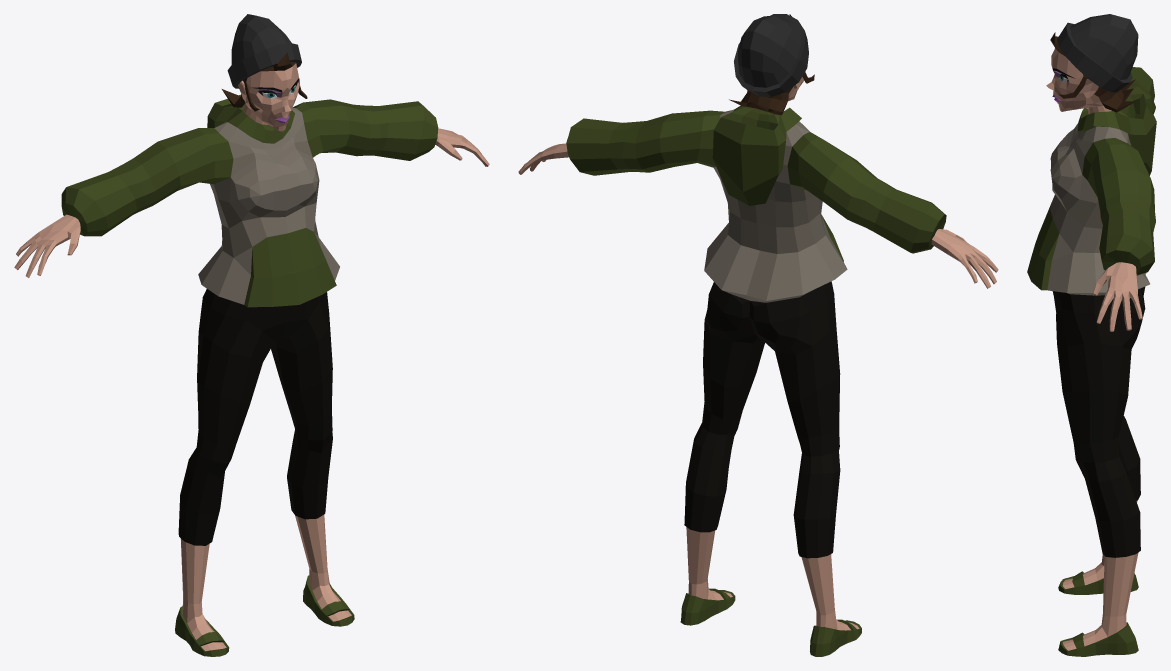
File: City__F_3.fbx
3 renders of one model, left to right at view 1: azimuth 30°, elevation 25°; view 2: azimuth 150°, elevation 25°; view 3: azimuth 270°, elevation 25°, orthographic.
Parts seen in each view (by area): view 1: City _F_3; view 2: City _F_3; view 3: City _F_3.
Boxes of the visible parts, left/top/right/bottom form: City _F_3: left=14, top=14, right=489, bottom=656; City _F_3: left=518, top=14, right=998, bottom=656; City _F_3: left=1027, top=14, right=1156, bottom=656.
Size of the model in its own units: 149 by 184 by 35.83.
Materials: 1 (1 with a texture image).
